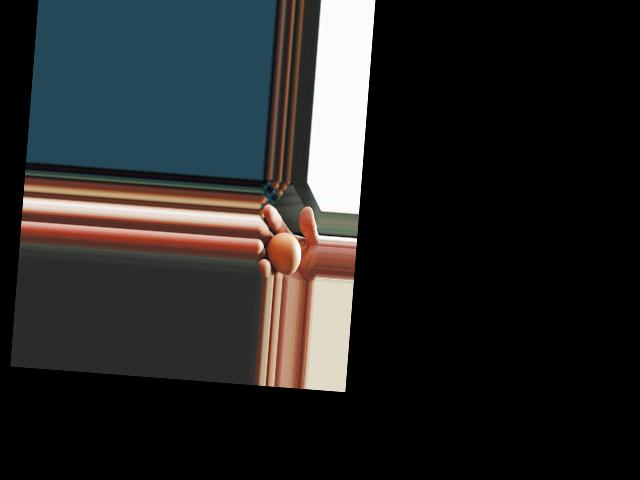egg: (264, 231, 302, 276)
